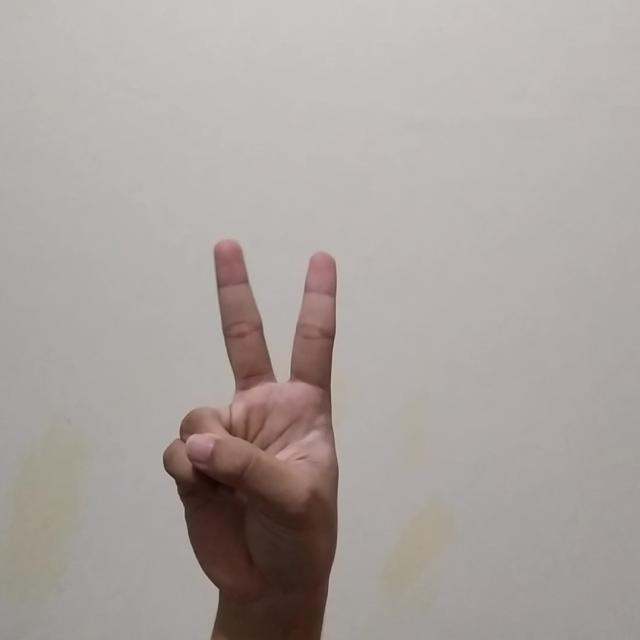V: (151, 232, 362, 610)
